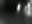person: (25, 1, 32, 17), (17, 3, 23, 15)
